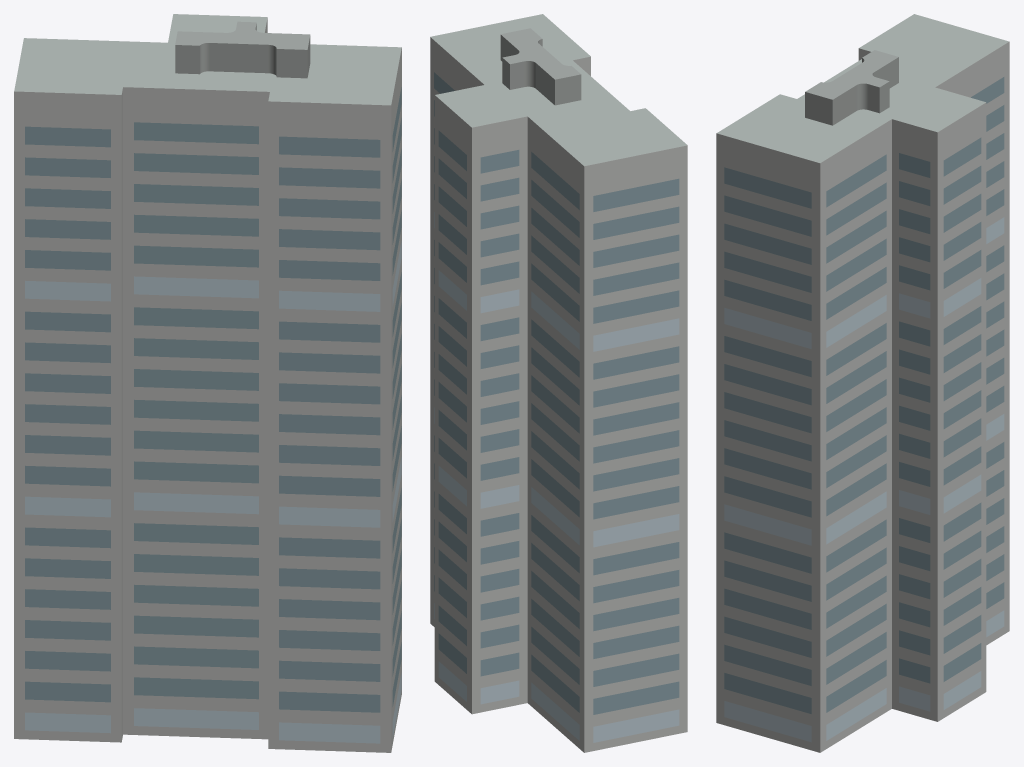
File: fallback-lake-palace-121.glb
3 renders of one model, left to right at view 1: azimuth 30°, elevation 25°; view 2: azimuth 150°, elevation 25°; view 3: azimuth 270°, elevation 25°, orthographic. The views are drawn at different scales.
Visible parts, largest first — view 1: fallback-lake-palace-121; view 2: fallback-lake-palace-121; view 3: fallback-lake-palace-121.
Part boxes in pixels (bbox=[...]): fallback-lake-palace-121: bbox=[14, 14, 401, 752]; fallback-lake-palace-121: bbox=[430, 14, 687, 752]; fallback-lake-palace-121: bbox=[716, 14, 1009, 752].
Bounding box in the file's own units: 29.65 × 57 × 24.59.
